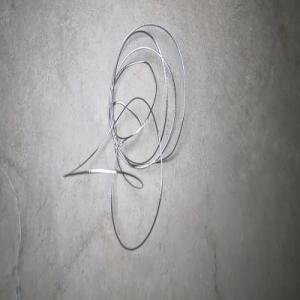Wire: (63, 23, 186, 251)
